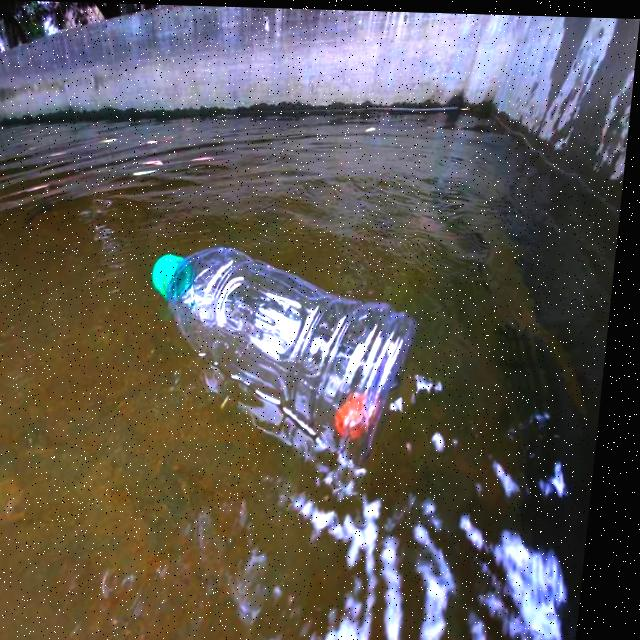waterbottle: (133, 242, 432, 454)
